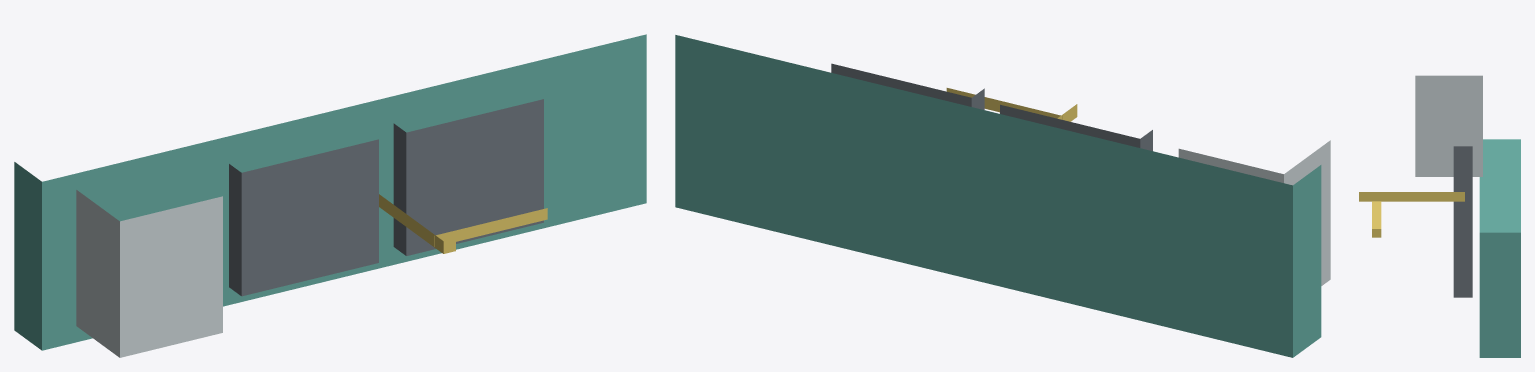
Rendered from general-cargo.glb.
The picture shows the model from 3 angles, left to right: view 1: azimuth 30°, elevation 25°; view 2: azimuth 150°, elevation 25°; view 3: azimuth 270°, elevation 25°; orthographic projection. The views are drawn at different scales.
Bounding box in the file's own units: 8.8 × 2.35 × 2.75.
